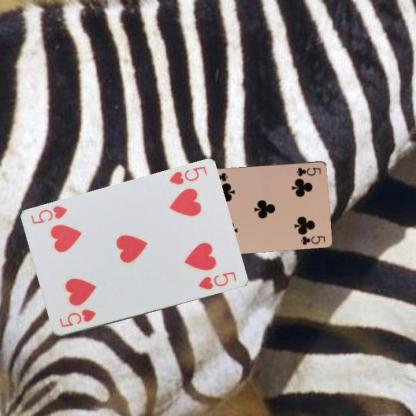5c: (294, 165, 322, 177)
5h: (166, 164, 209, 187), (57, 307, 97, 329)
